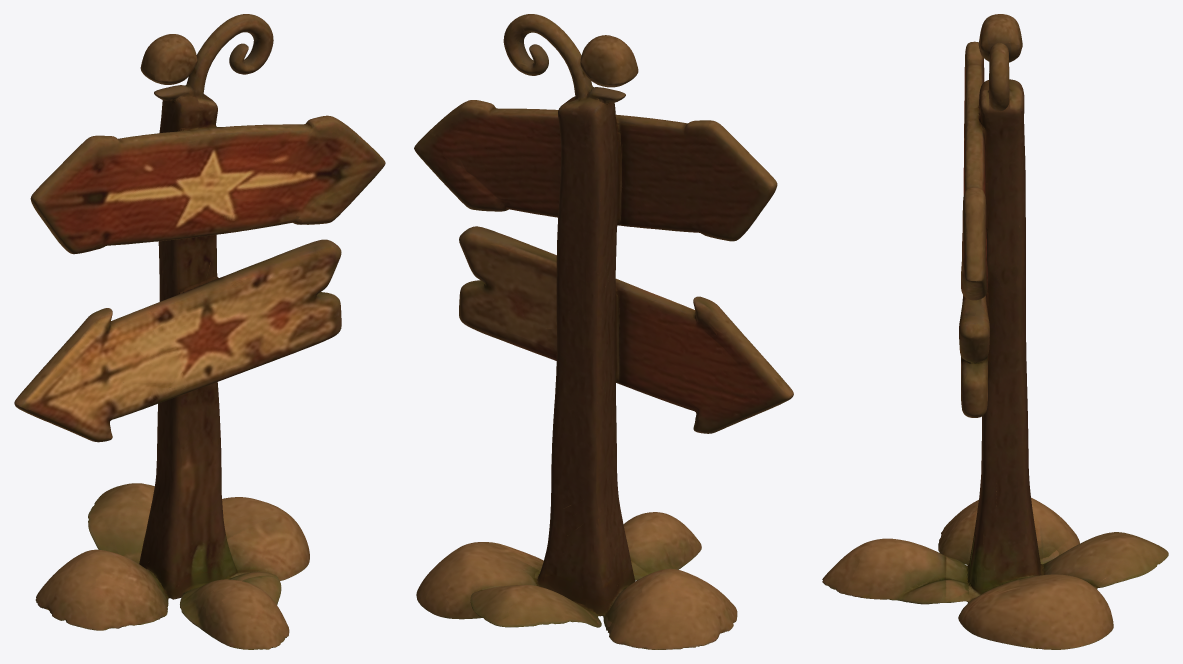
The model's file is poste.glb.
The picture shows the model from 3 angles, left to right: view 1: azimuth 30°, elevation 25°; view 2: azimuth 150°, elevation 25°; view 3: azimuth 270°, elevation 25°; orthographic projection. The views are drawn at different scales.
Bounding box in the file's own units: 1.32 × 1.9 × 1.06.
1 material, 1 textured.
